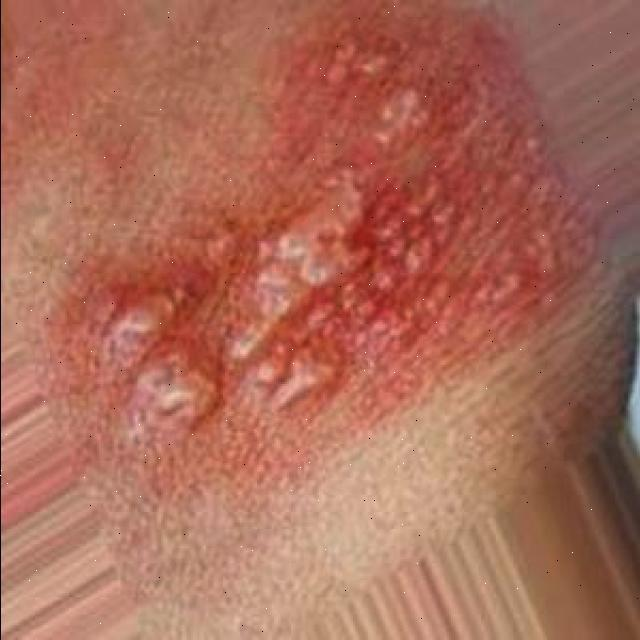Shingles: (94, 31, 542, 436)
